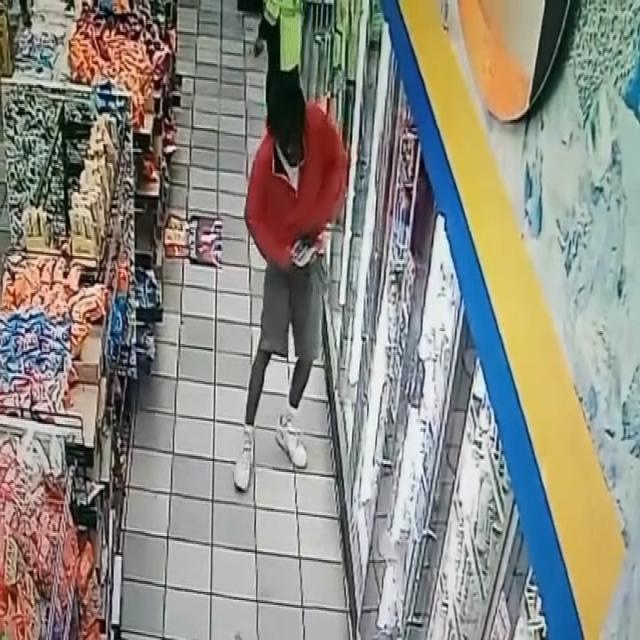Shoplifting: (234, 57, 348, 488)
